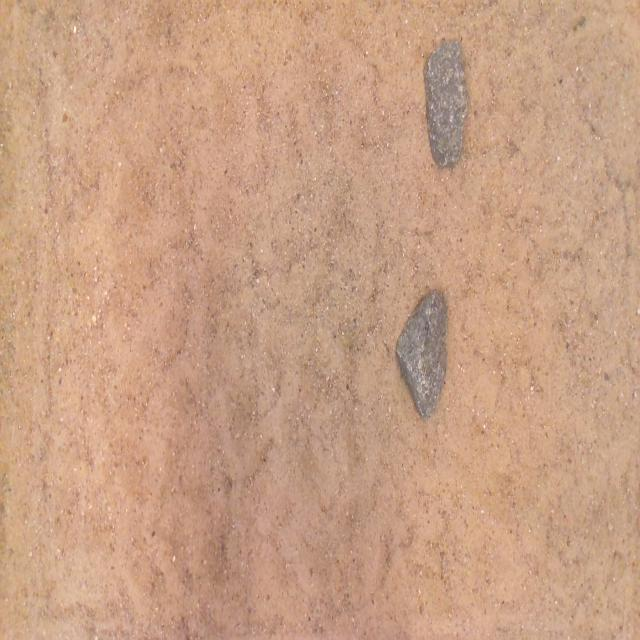rock: (396, 290, 447, 417), (424, 41, 467, 166)
